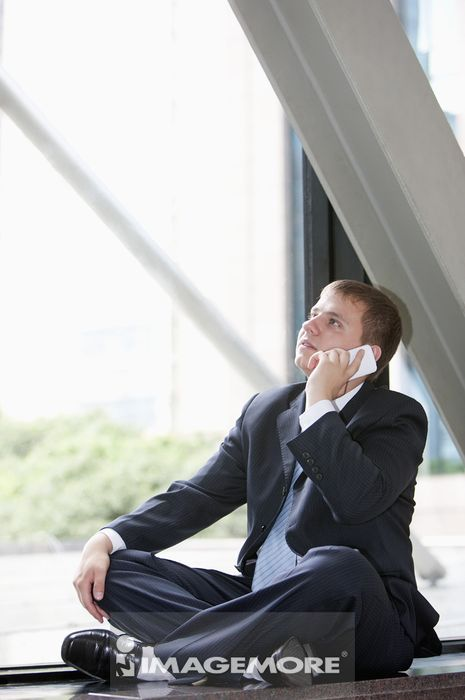phone: (340, 345, 377, 381)
talk: (295, 301, 376, 390)
